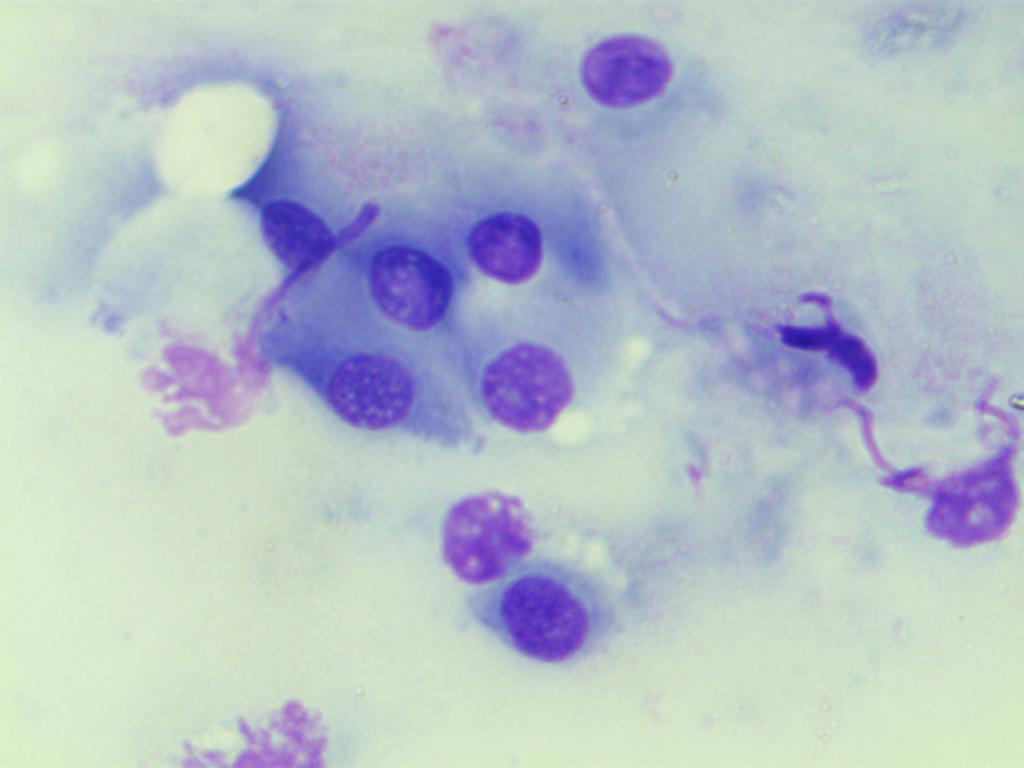artifact: (858, 406, 1024, 560), (764, 297, 883, 422)
epithelial: (453, 325, 592, 443), (427, 478, 543, 581), (324, 343, 424, 437)
lymphocyte: (540, 3, 696, 132), (469, 572, 608, 690), (455, 198, 555, 292), (355, 239, 455, 333), (248, 191, 347, 284)
